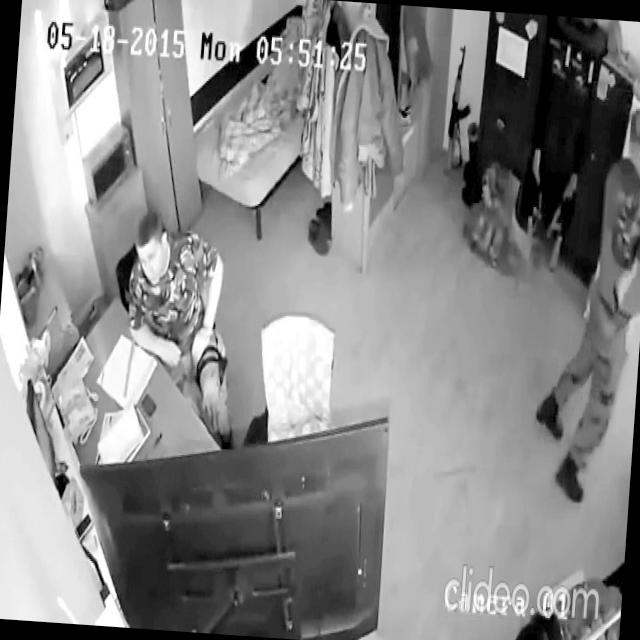gun: (544, 115, 592, 272), (519, 99, 560, 261), (443, 41, 478, 178)
person: (530, 98, 640, 508), (116, 205, 248, 448)
